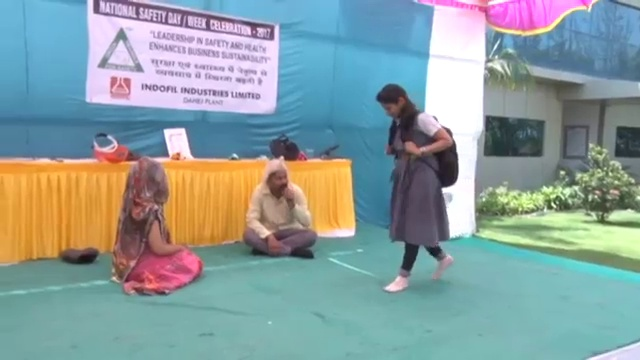helmet_off: (125, 158, 170, 203), (378, 83, 408, 122), (266, 158, 290, 195)
person: (375, 82, 461, 296), (111, 157, 203, 298), (242, 157, 318, 259)
